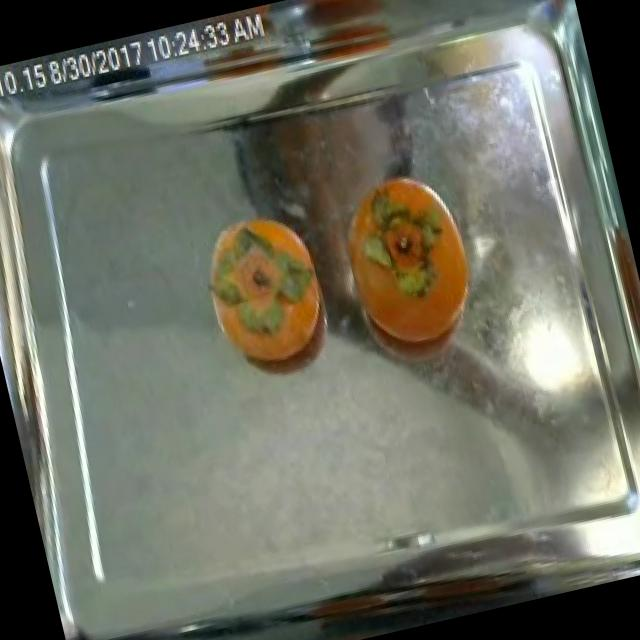Fruit: (219, 69, 446, 278), (320, 140, 495, 378), (185, 194, 342, 388)
